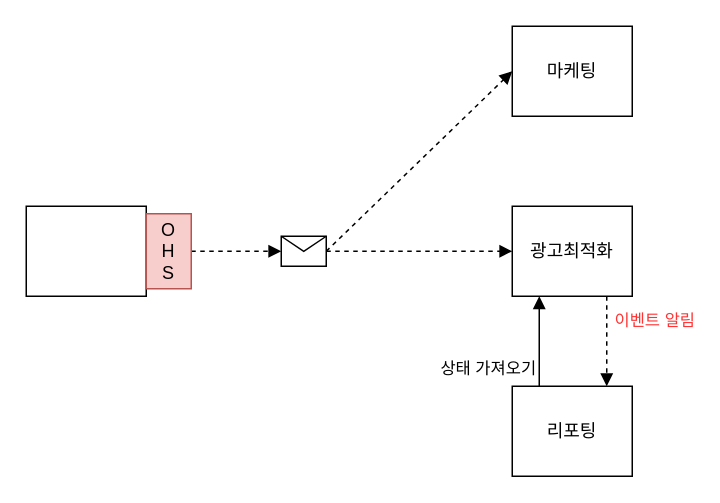
Image size: 720x503. Some labels were removed from this diagram. Each missing label, with the centre of its shape:
CRM: the point at 85,250
프로젝션된 상태 (ECST): the point at 303,250
